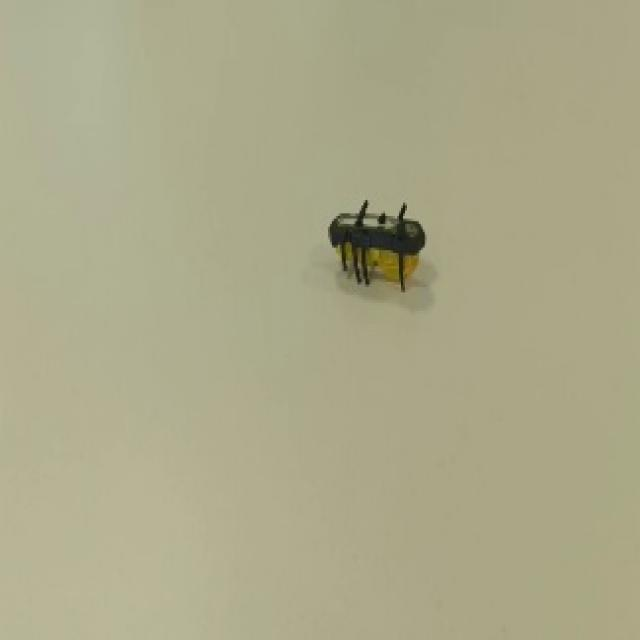6_NanoBug_GrisOscuro: (322, 181, 438, 316)
